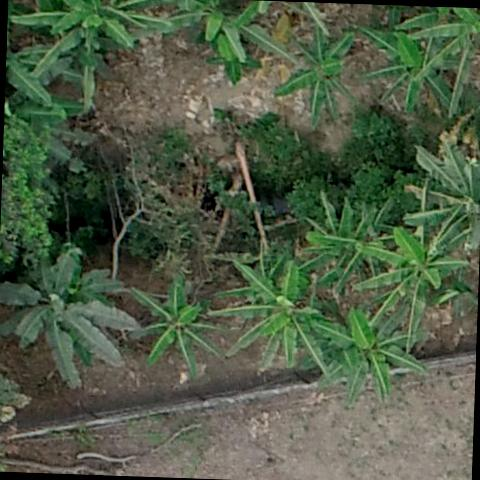Banana-plant: (0, 231, 142, 395), (4, 0, 174, 114), (206, 258, 338, 376), (350, 230, 470, 349), (318, 308, 430, 416), (359, 19, 471, 122), (403, 131, 480, 275), (120, 280, 232, 378), (274, 19, 360, 128), (298, 193, 377, 300), (209, 36, 263, 90)
